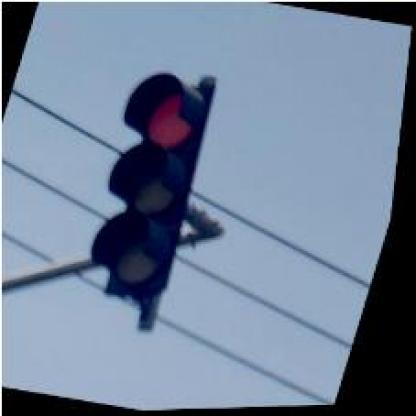red: (74, 66, 238, 304)
